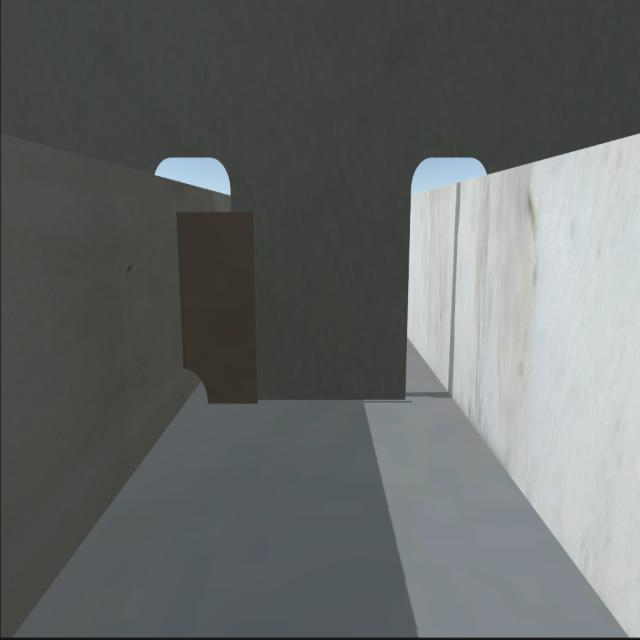fillet_hole: (186, 374, 211, 406)
fillet_yong_jeop_jang: (216, 398, 406, 408)
longi_yong_jeop_jang: (173, 220, 190, 363)
plate_CP01: (178, 209, 257, 402)
